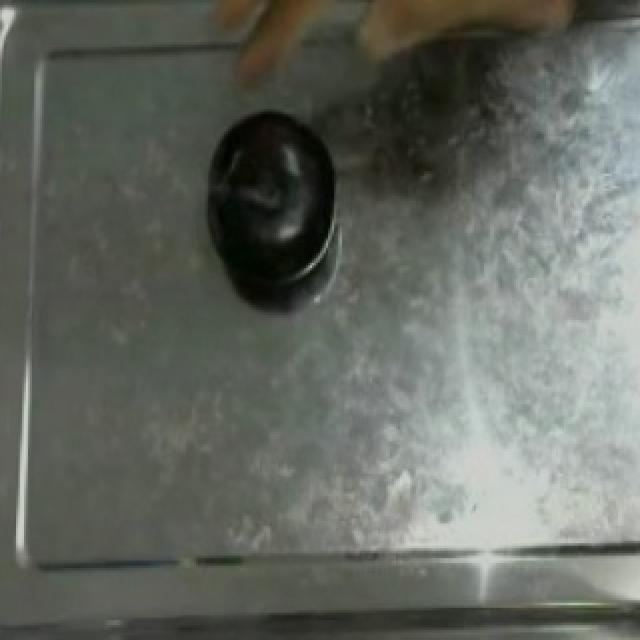Fruit: (206, 104, 340, 300)
